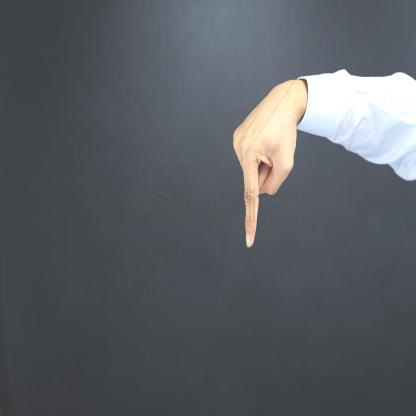Down: (214, 64, 314, 259)
